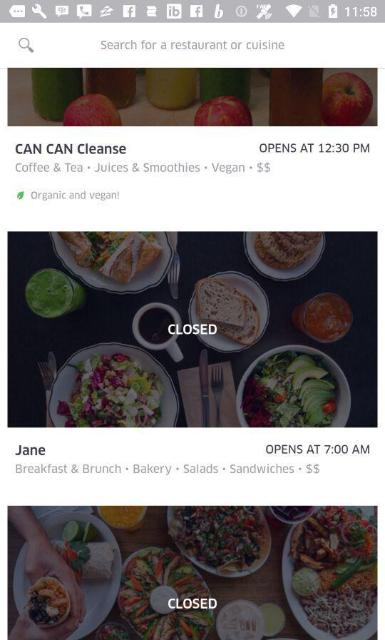Icon: (17, 38, 34, 52)
Image: (7, 231, 377, 427), (8, 505, 376, 639), (8, 67, 376, 126)
Text: (15, 463, 318, 475), (16, 162, 270, 174), (101, 40, 285, 50), (16, 142, 126, 154), (259, 142, 369, 152), (266, 443, 370, 453), (17, 191, 120, 201), (168, 597, 216, 609), (168, 323, 216, 335), (15, 444, 45, 454)
UpperTaskBar: (0, 0, 384, 22)
